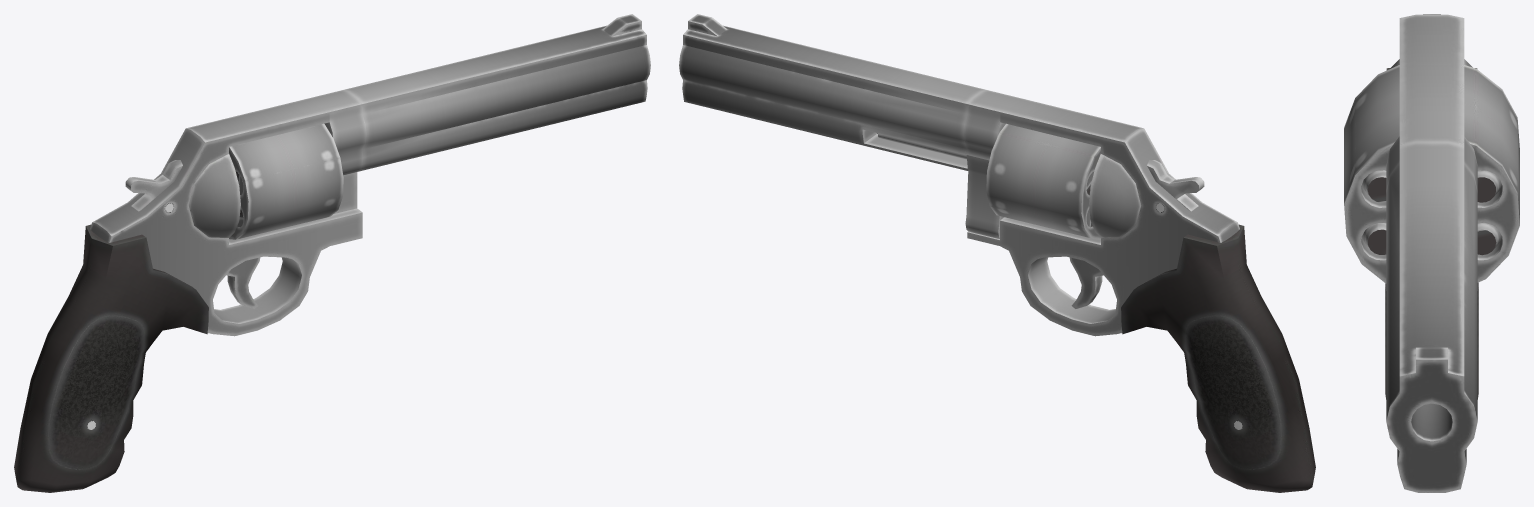
Rendered from revolver.glb.
3 renders of one model, left to right at view 1: azimuth 30°, elevation 25°; view 2: azimuth 150°, elevation 25°; view 3: azimuth 270°, elevation 25°, orthographic. The views are drawn at different scales.
Parts seen in each view (by area): view 1: REV_Frame_baked, REV_Handle_baked, REV_Cylinder_baked, Hammer_baked, REV_Trigger_baked; view 2: REV_Frame_baked, REV_Handle_baked, REV_Cylinder_baked, LOW_CHamberRotate_baked, Hammer_baked, REV_Trigger_baked; view 3: REV_Frame_baked, REV_Cylinder_baked, 357 Bullet.006_baked, 357 Bullet.002_baked, 357 Bullet.005_baked, 357 Bullet.003_baked, REV_Handle_baked.
Part boxes in pixels (x1,y1,x2,y2): REV_Frame_baked: (90, 14, 650, 336); REV_Handle_baked: (14, 224, 208, 492); REV_Cylinder_baked: (229, 123, 343, 239); Hammer_baked: (125, 160, 182, 211); REV_Trigger_baked: (226, 257, 260, 308); REV_Frame_baked: (679, 14, 1239, 336); REV_Handle_baked: (1121, 224, 1315, 492); REV_Cylinder_baked: (986, 123, 1100, 239); LOW_CHamberRotate_baked: (965, 155, 1004, 238); Hammer_baked: (1147, 160, 1204, 211); REV_Trigger_baked: (1069, 257, 1103, 308); REV_Frame_baked: (1386, 14, 1477, 492); REV_Cylinder_baked: (1344, 65, 1519, 283); 357 Bullet.006_baked: (1362, 170, 1386, 202); 357 Bullet.002_baked: (1477, 170, 1501, 202); 357 Bullet.005_baked: (1361, 223, 1386, 254); 357 Bullet.003_baked: (1477, 223, 1501, 255); REV_Handle_baked: (1385, 68, 1478, 399).
Size of the model in its own units: 0.3446 by 0.1767 by 0.0508.
Materials: 1 (1 with a texture image).
